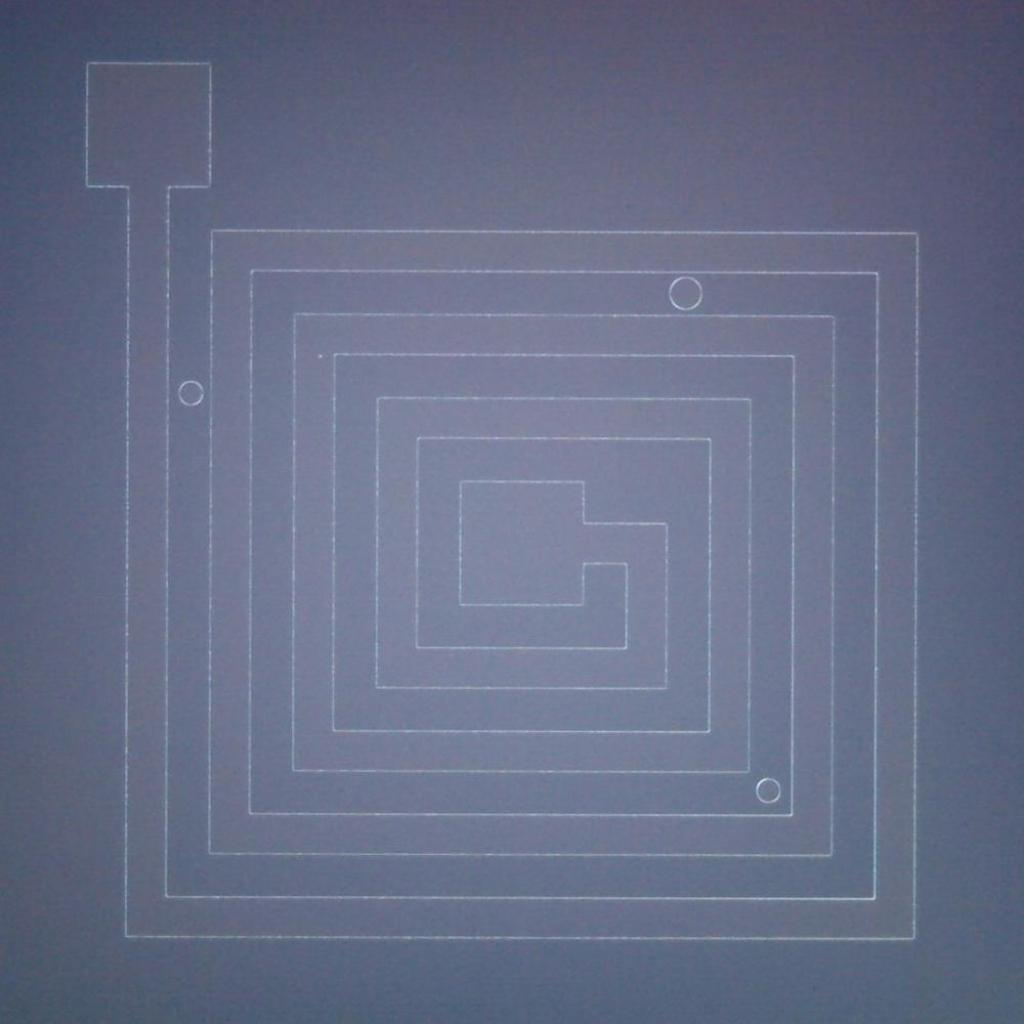dot: (318, 354, 322, 358)
